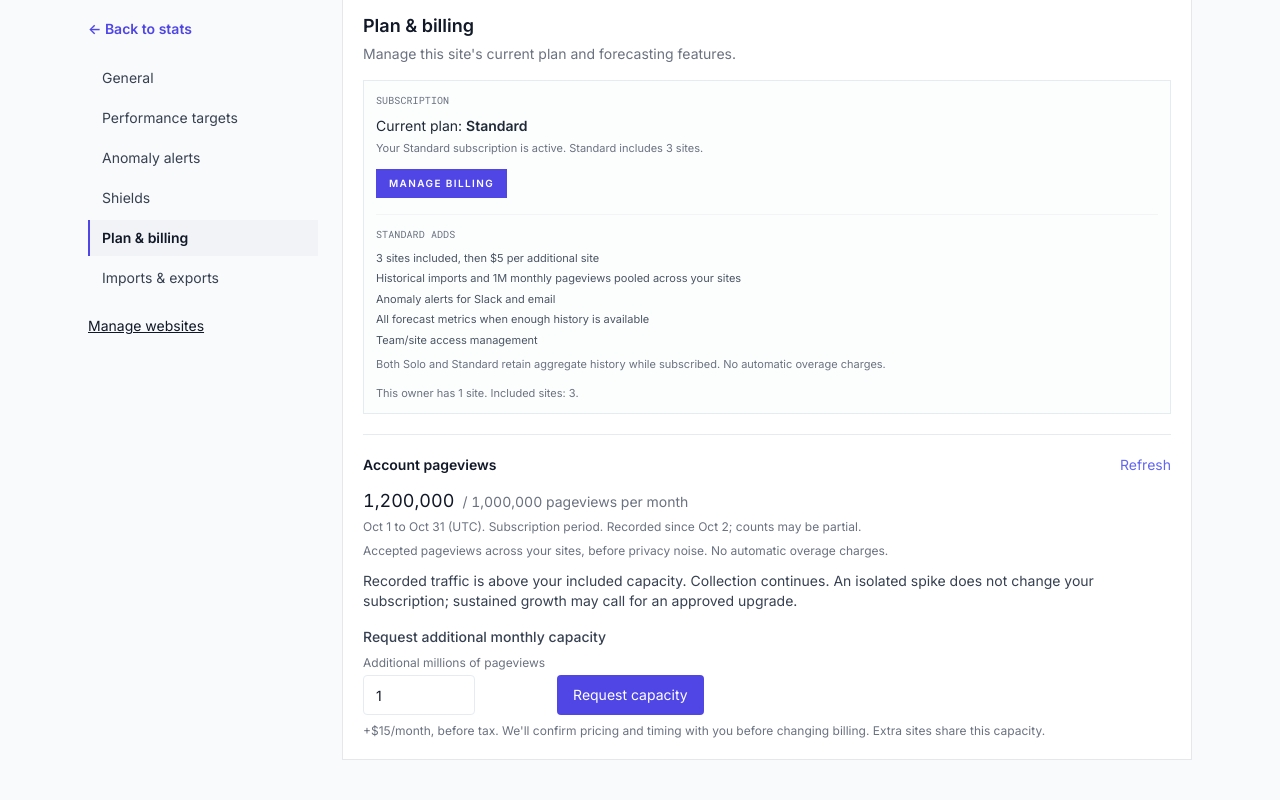
Scenario: Plan capacity and predictable billing › shows partial usage and submits a request without creating a checkout
This screenshot has width=1280, height=800.
(page scrolled)
Expected: the text "No automatic overage charges." is shown, [376,357,886,371]
Expected: the text "counts may be partial" is shown, [729,519,862,534]
Replace the text in the number field with id "capacity-millions" with "2" at (419, 695), box [363,675,475,715]
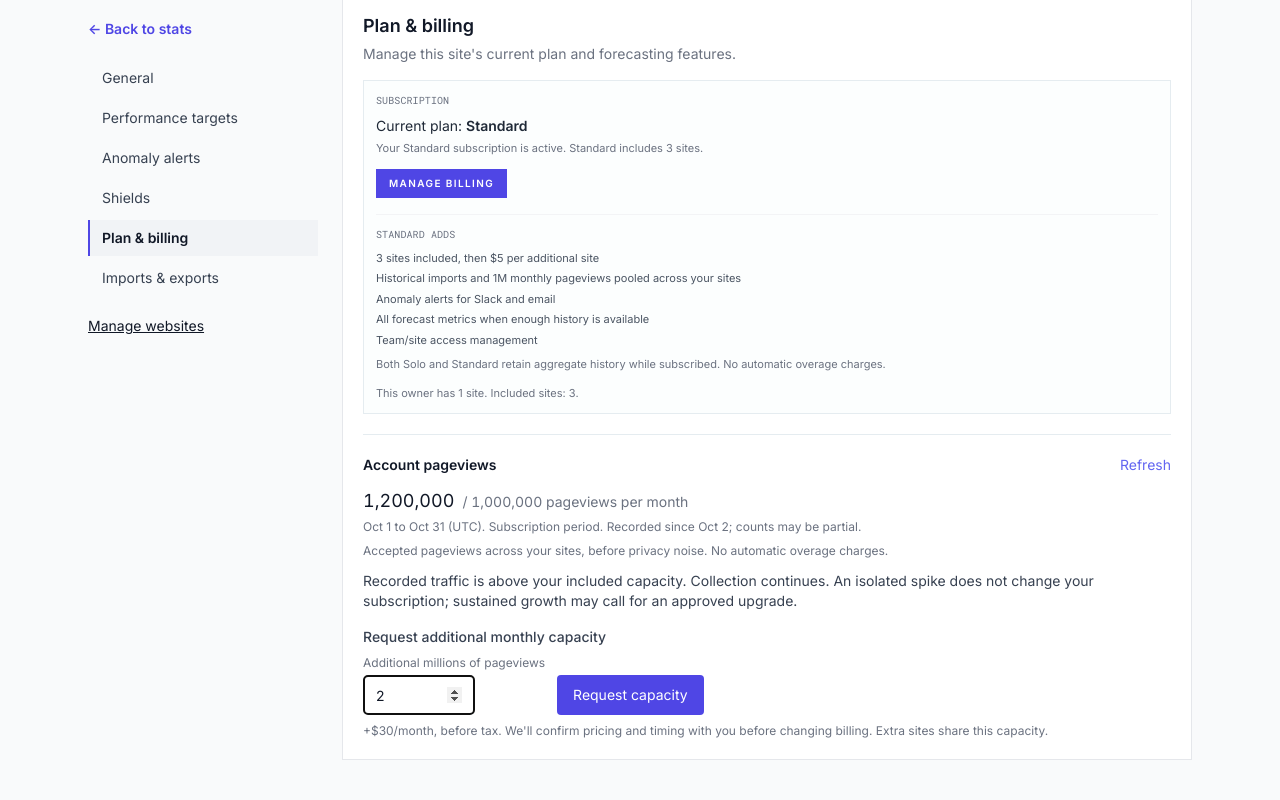
Result: the text "+$30/month, before tax." is shown at [363,723,505,738]
Click the button "Request capacity".
click(631, 695)  # box [557,675,704,715]
(page scrolled)
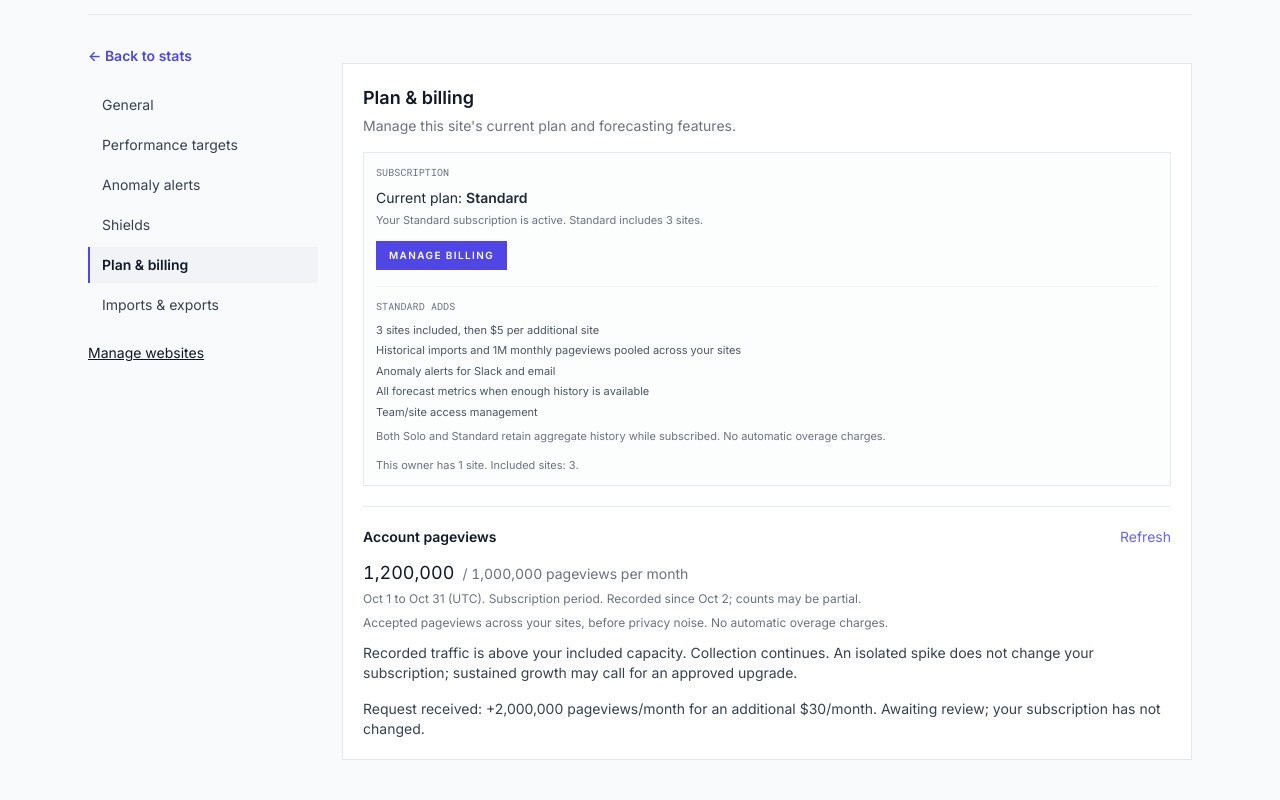
Result: the text "Awaiting review; your subscription has not changed." is shown at [363,700,1161,737]
Result: the label with id "capacity-millions" is gone
